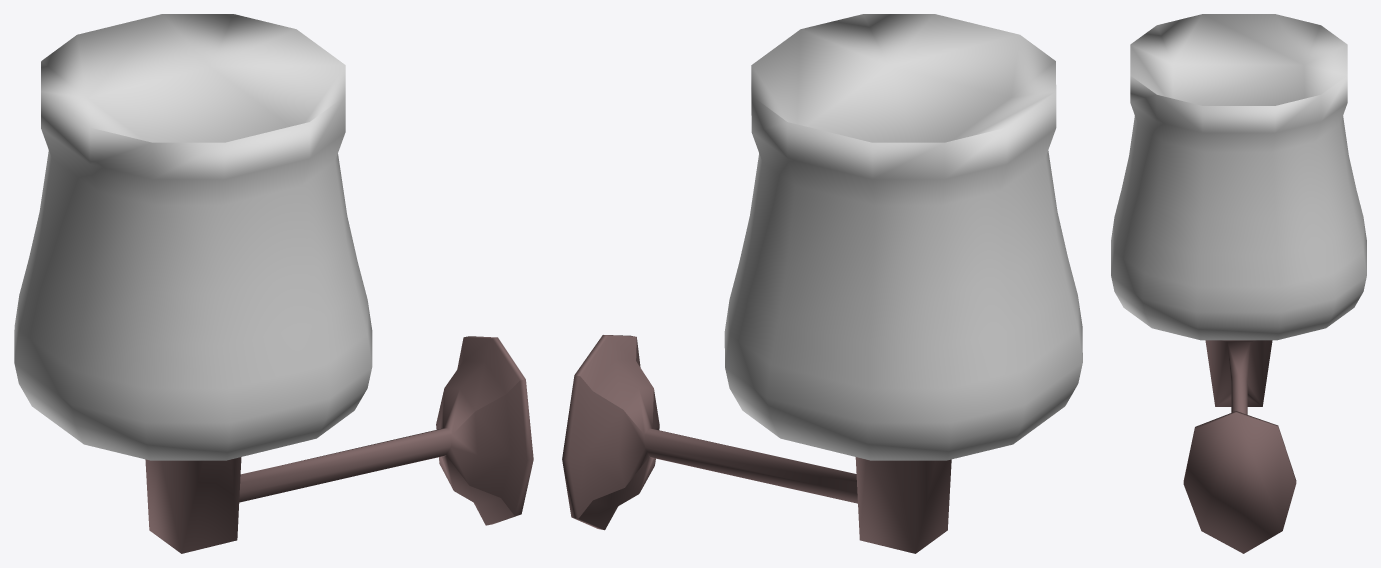
Rendered from wallLamp.fbx.
The picture shows the model from 3 angles, left to right: view 1: azimuth 30°, elevation 25°; view 2: azimuth 150°, elevation 25°; view 3: azimuth 270°, elevation 25°; orthographic projection. The views are drawn at different scales.
Parts seen in each view (by area): view 1: pCube1; view 2: pCube1; view 3: pCube1.
Part boxes in pixels (x1,y1,x2,y2): pCube1: (14, 14, 533, 553); pCube1: (562, 14, 1082, 553); pCube1: (1111, 14, 1366, 553).
Size of the model in its own units: 372 by 410 by 247.
